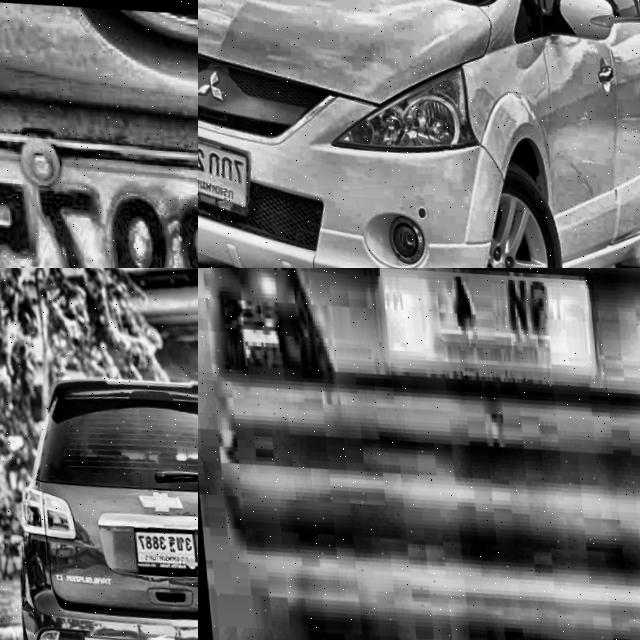license-plate: (0, 106, 198, 268), (372, 268, 593, 384), (198, 116, 248, 211), (127, 518, 195, 571)
